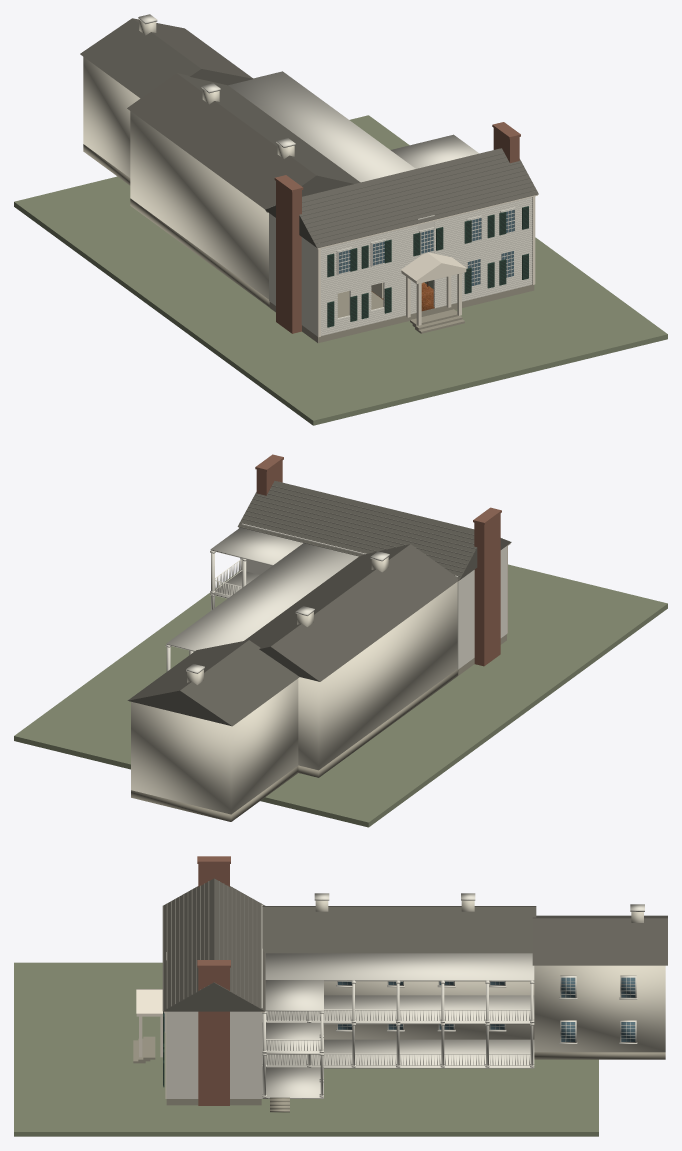
File: world-v2.glb
3 renders of one model, top to bottom at view 1: azimuth 30°, elevation 25°; view 2: azimuth 150°, elevation 25°; view 3: azimuth 270°, elevation 25°, orthographic. The views are drawn at different scales.
Visible parts, largest first — view 1: Cutaway landscape, Survey ell and gallery, Gable wall.001, Roof, Chimney coping, Roof battens, Shutters, Corner boards, Ashlar foundation, Survey east glazing, Shutter louvers; view 2: Survey ell and gallery, Cutaway landscape, Gable wall.001, Roof, Chimney coping, Roof battens; view 3: Cutaway landscape, Survey ell and gallery, Gable wall.001, Roof, Chimney coping, Roof battens, Survey east glazing, Corner boards, Ashlar foundation.
Boxes of the visible parts, left/top/right/bottom form: Cutaway landscape: left=14, top=115, right=667, bottom=425; Survey ell and gallery: left=80, top=18, right=360, bottom=307; Gable wall.001: left=138, top=14, right=532, bottom=336; Roof: left=265, top=148, right=538, bottom=247; Chimney coping: left=274, top=122, right=520, bottom=333; Roof battens: left=265, top=151, right=538, bottom=248; Shutters: left=327, top=206, right=528, bottom=327; Corner boards: left=266, top=194, right=537, bottom=337; Ashlar foundation: left=269, top=284, right=534, bottom=343; Survey east glazing: left=339, top=210, right=514, bottom=285; Shutter louvers: left=328, top=208, right=528, bottom=326; Survey ell and gallery: left=127, top=544, right=458, bottom=821; Cutaway landscape: left=14, top=564, right=667, bottom=827; Gable wall.001: left=165, top=523, right=506, bottom=673; Roof: left=238, top=481, right=511, bottom=580; Chimney coping: left=255, top=454, right=501, bottom=666; Roof battens: left=237, top=481, right=511, bottom=580; Cutaway landscape: left=14, top=962, right=598, bottom=1136; Survey ell and gallery: left=262, top=900, right=667, bottom=1112; Gable wall.001: left=164, top=893, right=644, bottom=1098; Roof: left=163, top=878, right=264, bottom=1011; Chimney coping: left=197, top=856, right=230, bottom=1105; Roof battens: left=162, top=881, right=265, bottom=1011; Survey east glazing: left=164, top=977, right=635, bottom=1041; Corner boards: left=136, top=989, right=264, bottom=1098; Ashlar foundation: left=133, top=1036, right=261, bottom=1105.
Size of the model in its own units: 26 by 10.45 by 42.47.
17 materials, 2 textured.
